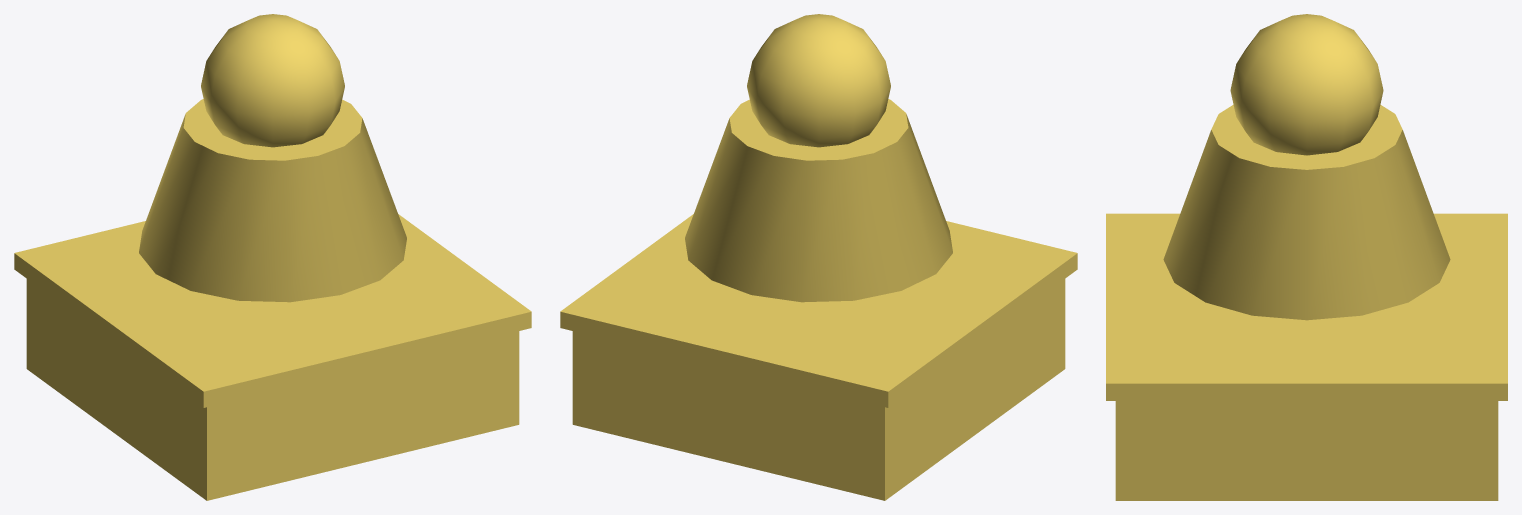
File: 03_an_vang.glb
3 renders of one model, left to right at view 1: azimuth 30°, elevation 25°; view 2: azimuth 150°, elevation 25°; view 3: azimuth 270°, elevation 25°, orthographic. The views are drawn at different scales.
Visible parts, largest first — view 1: AnVangVanDe; view 2: AnVangVanDe; view 3: AnVangVanDe.
Part boxes in pixels (x1,y1,x2,y2): AnVangVanDe: [14, 14, 531, 500]; AnVangVanDe: [560, 14, 1077, 500]; AnVangVanDe: [1106, 14, 1507, 500].
Size of the model in its own units: 0.42 by 0.46 by 0.42.
